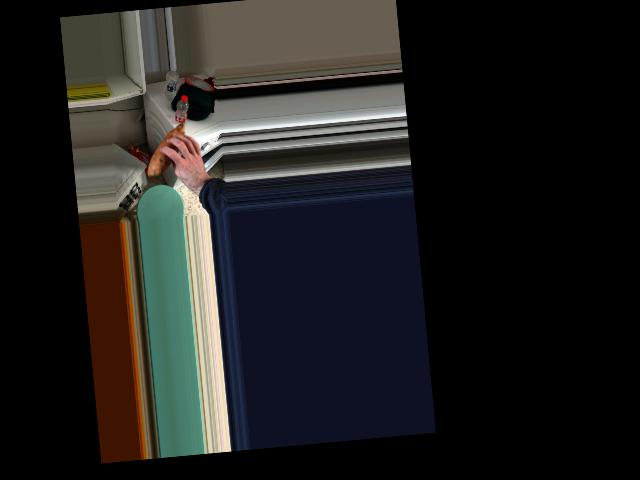sweet_potato: (145, 124, 199, 170)
